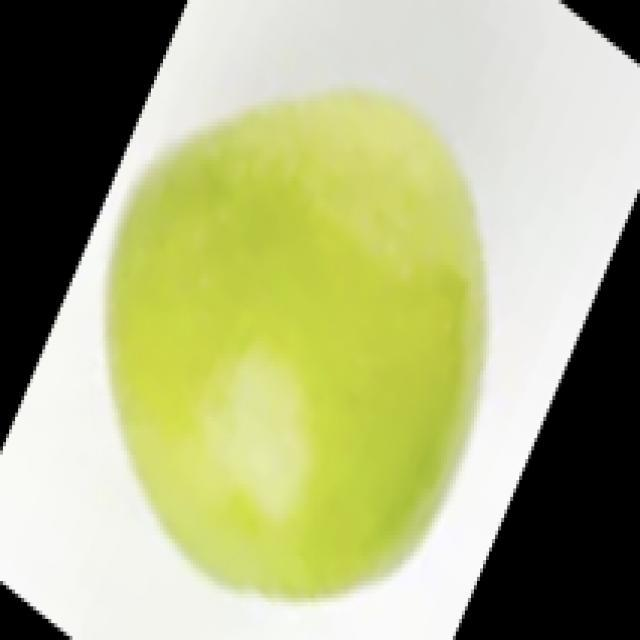Fresh Apple: (92, 92, 486, 604)
